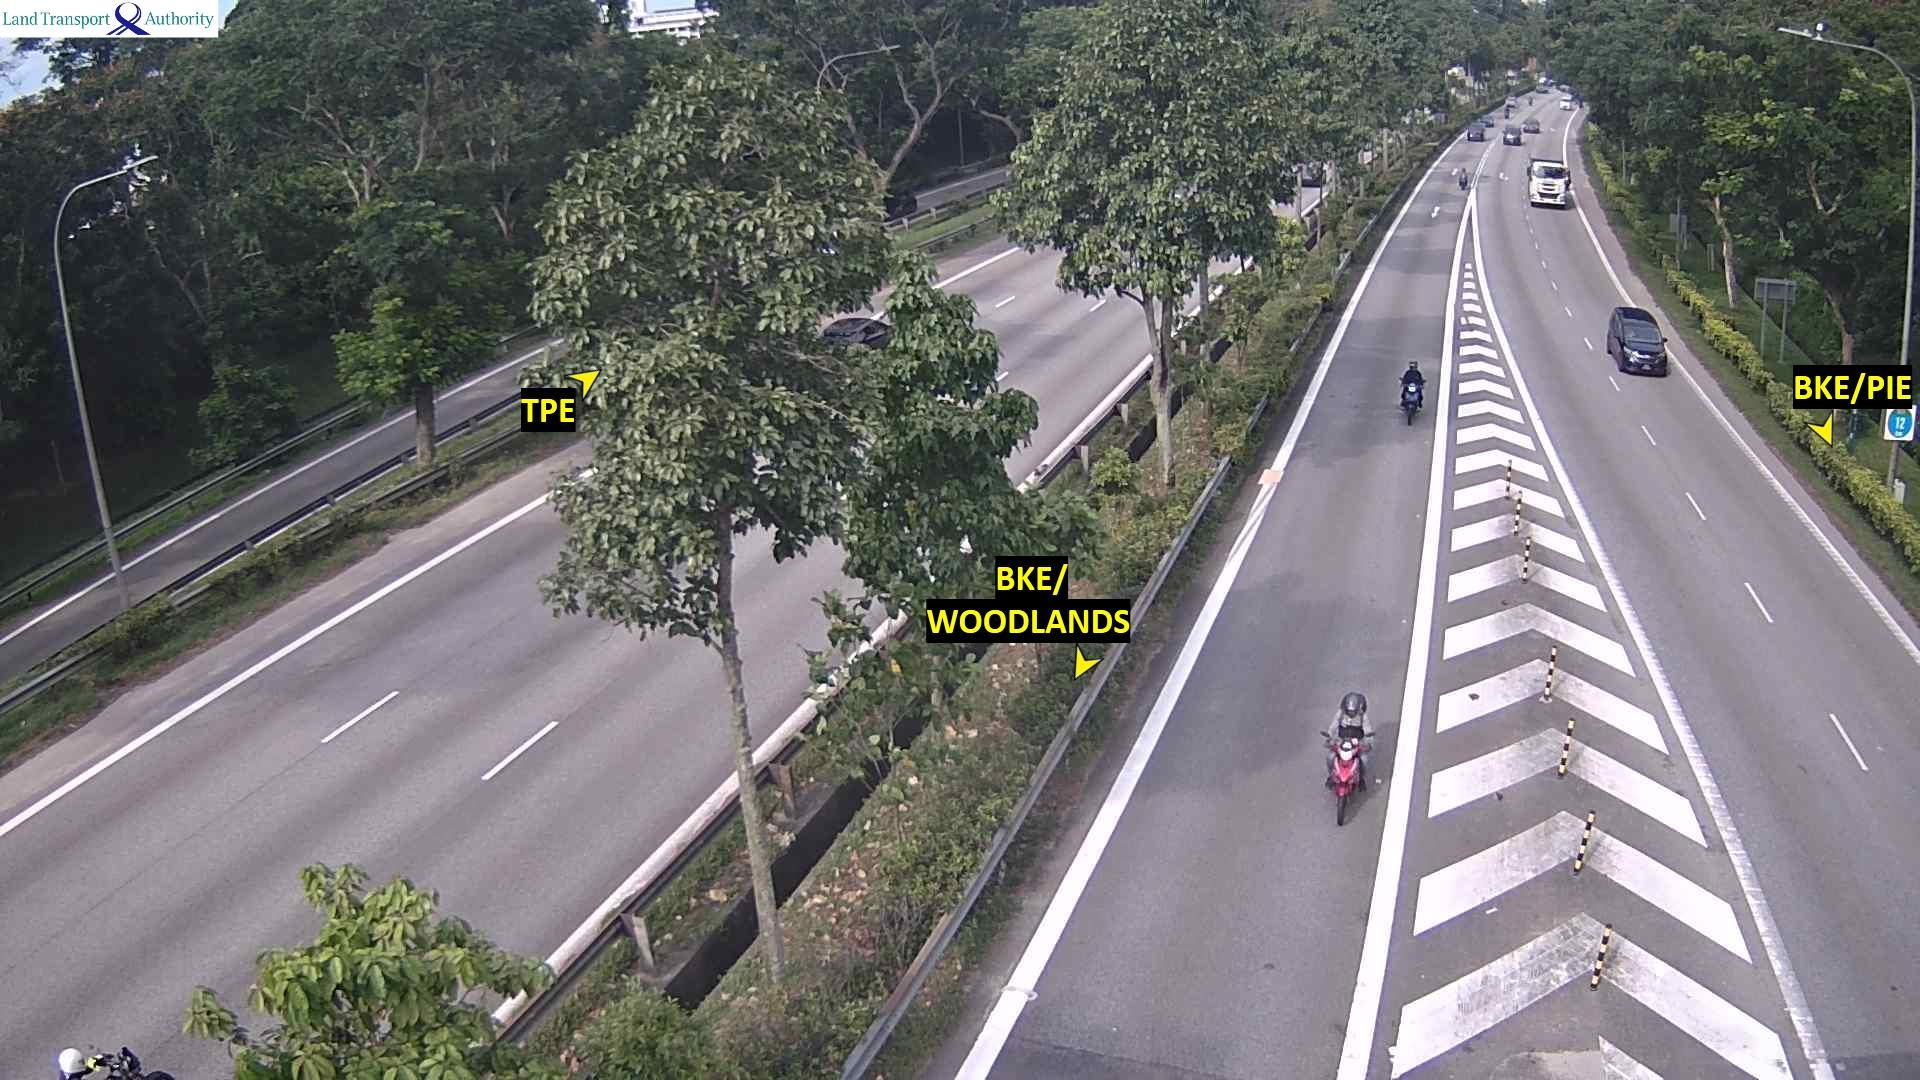cars: (1605, 305, 1668, 376), (820, 312, 894, 352), (881, 185, 917, 227), (1299, 160, 1324, 185), (1501, 125, 1522, 145), (1521, 116, 1540, 132), (1465, 124, 1484, 140), (1504, 96, 1517, 114), (1558, 95, 1573, 110), (1480, 114, 1494, 127)
motorcycle: (1318, 727, 1376, 826), (55, 1043, 175, 1079), (1398, 379, 1425, 425), (1457, 166, 1472, 188)
trucks: (1525, 157, 1570, 207)
